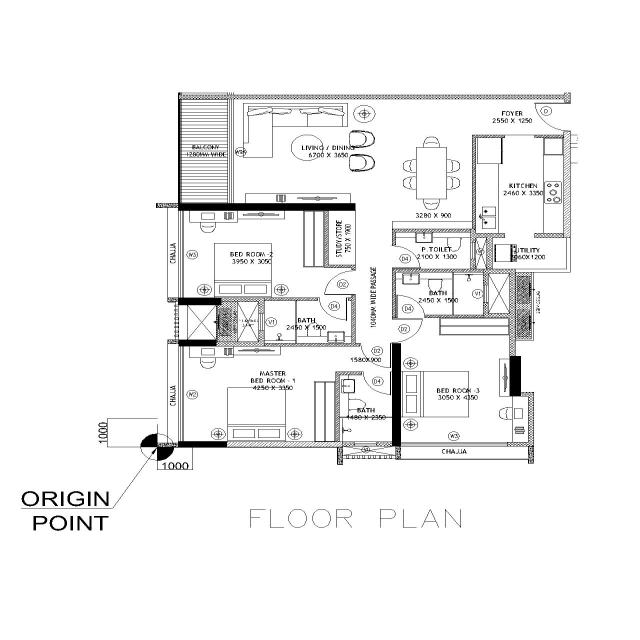Column: (177, 202, 357, 212), (391, 342, 403, 448), (507, 354, 523, 398), (175, 439, 229, 450), (177, 338, 219, 349), (176, 297, 222, 306)
Door: (390, 316, 398, 346), (391, 242, 399, 271), (350, 269, 358, 297), (564, 100, 570, 134), (317, 296, 349, 302), (359, 342, 393, 347), (394, 314, 428, 318), (362, 371, 394, 375)
Opening: (502, 232, 538, 239)
Ventilator: (257, 310, 267, 334), (482, 282, 490, 304), (469, 240, 477, 261), (353, 441, 377, 447)
